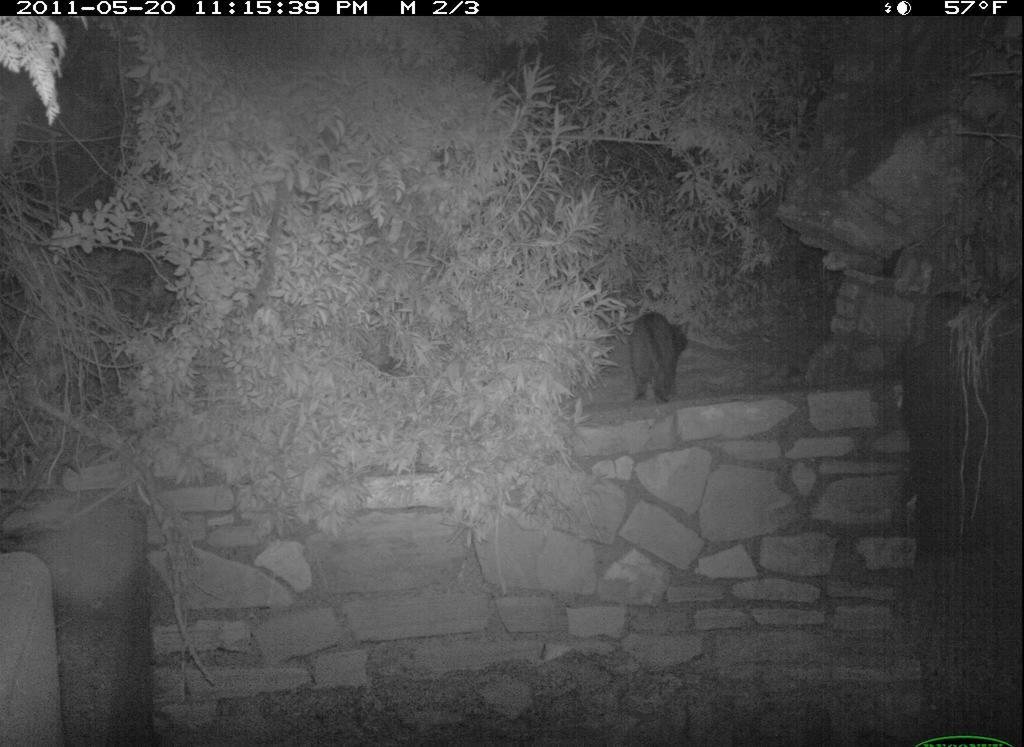cat: (619, 305, 697, 409)
